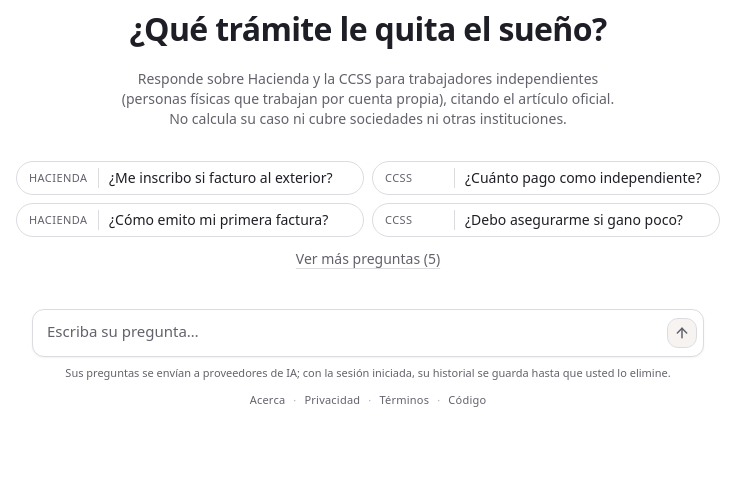
Scenario: Chat unsearchable question (#436) › does the same on the empty state's error slot
Click the button "Hacienda ¿Me inscribo si facturo al exterior?".
click(190, 178)  # box top-left (16, 161), bottom-right (364, 195)
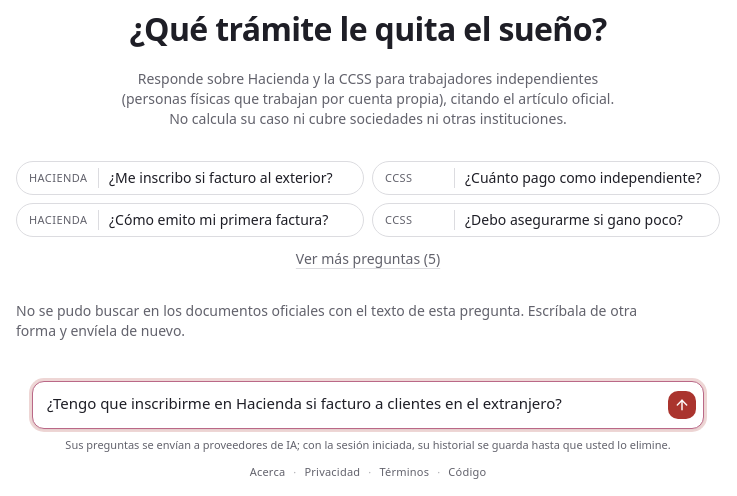
Expected: the message shows "No se pudo buscar en los documentos oficiales con el texto de esta pregunta. Escríbala de otra forma y envíela de nuevo.", top-left (16, 301), bottom-right (637, 340)
Expected: the text box named "su pregunta" holds "¿Tengo que inscribirme en Hacienda si facturo a clientes en el extranjero?", top-left (39, 388), bottom-right (661, 422)
